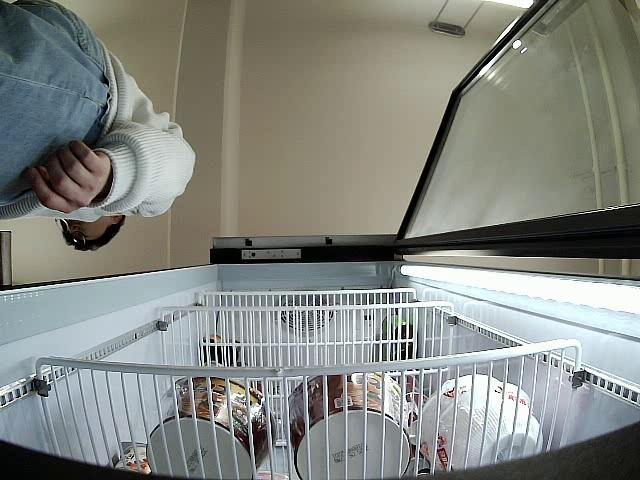00_hand: (21, 140, 104, 216)
